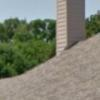chimneys: (56, 0, 86, 56)
